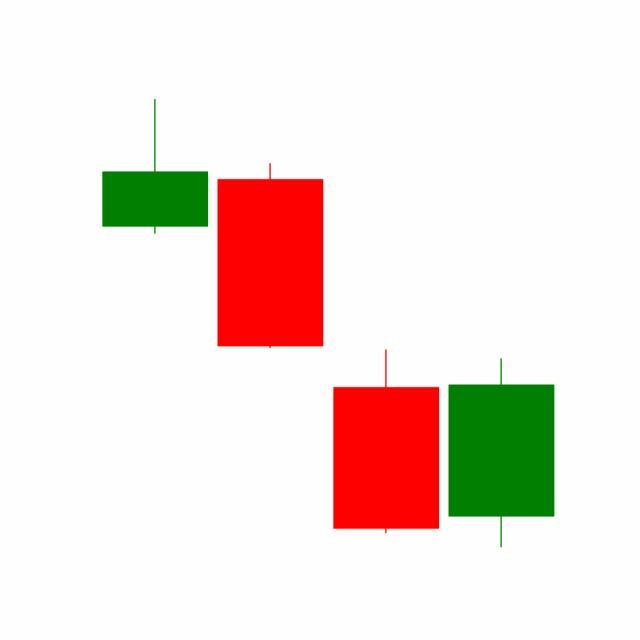Tasuki Gap: (211, 159, 555, 549)
